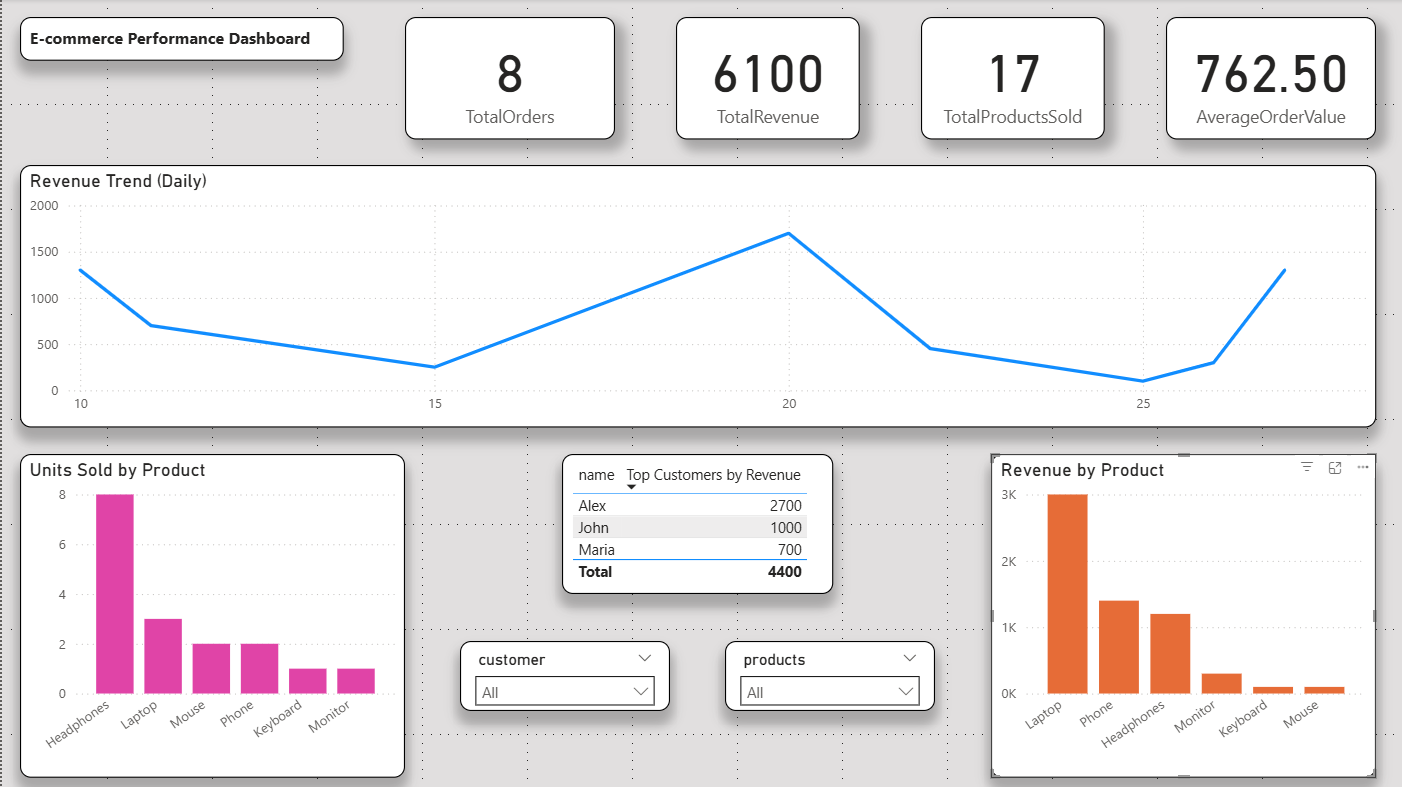

The page's visual inventory and layout, read from the dashboard file:
{"tool":"powerbi","page":{"name":"Page 1","canvas":[1280,720],"ordinal":0},"visuals":[{"type":"card","fields":{"Values":["customers.TotalRevenue"]},"box":[616,16,168,112],"z":0},{"type":"card","fields":{"Values":["customers.TotalProductsSold"]},"box":[840,16,168,112],"z":1000},{"type":"card","fields":{"Values":["customers.AverageOrderValue"]},"box":[1064,16,192,112],"z":2000},{"type":"clusteredColumnChart","title":"Revenue by Product","fields":{"Category":["products.name"],"Y":["customers.TotalRevenue"]},"box":[904,416,352,296],"z":3000},{"type":"columnChart","title":"Units Sold by Product","fields":{"Category":["products.name"],"Y":["customers.TotalProductsSold"]},"box":[16,416,352,296],"z":4000},{"type":"slicer","fields":{"Values":["customers.name"]},"box":[418.7,587,192,64],"z":5000},{"type":"slicer","fields":{"Values":["products.name"]},"box":[661.3,587,192,64],"z":6000},{"type":"card","fields":{"Values":["customers.TotalOrders"]},"box":[368,16,192,112],"z":7000},{"type":"tableEx","fields":{"Values":["customers.name","customers.HighValueRevenuePerCustomer"]},"box":[512,416,248,128],"z":8000},{"type":"lineChart","title":"Revenue Trend (Daily)","fields":{"Category":["orders.order_date.Variation.Date Hierarchy.Day"],"Y":["customers.TotalRevenue"]},"box":[16,152,1240,240],"z":9000},{"type":"textbox","box":[16,16,296,40],"z":10000}]}

Visuals, with their boxes in screenshot pixels (x1, y1, x2, y2), scaled from the page's 1280x720 canvas onto the 1402x787 screenshot:
card - customers.TotalRevenue: Rect(675, 17, 859, 140)
card - customers.TotalProductsSold: Rect(920, 17, 1104, 140)
card - customers.AverageOrderValue: Rect(1165, 17, 1376, 140)
"Revenue by Product" clusteredColumnChart: Rect(990, 455, 1376, 778)
"Units Sold by Product" columnChart: Rect(18, 455, 403, 778)
slicer - customers.name: Rect(459, 642, 669, 712)
slicer - products.name: Rect(724, 642, 935, 712)
card - customers.TotalOrders: Rect(403, 17, 613, 140)
tableEx - customers.name x customers.HighValueRevenuePerCustomer: Rect(561, 455, 832, 595)
"Revenue Trend (Daily)" lineChart: Rect(18, 166, 1376, 428)
textbox: Rect(18, 17, 342, 61)
